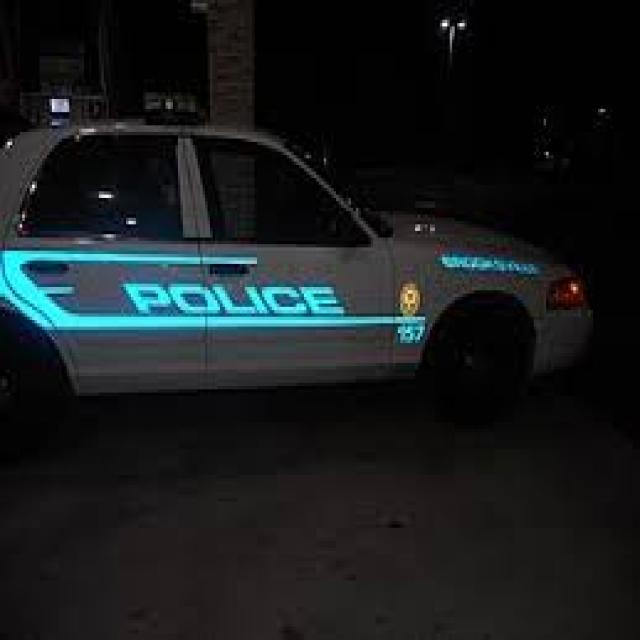cop: (0, 83, 599, 419)
